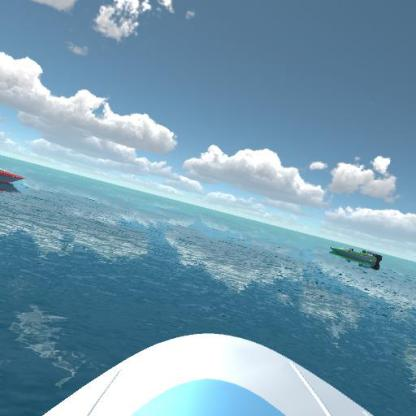usv0: (323, 236, 386, 274)
usv3: (0, 159, 28, 187)
